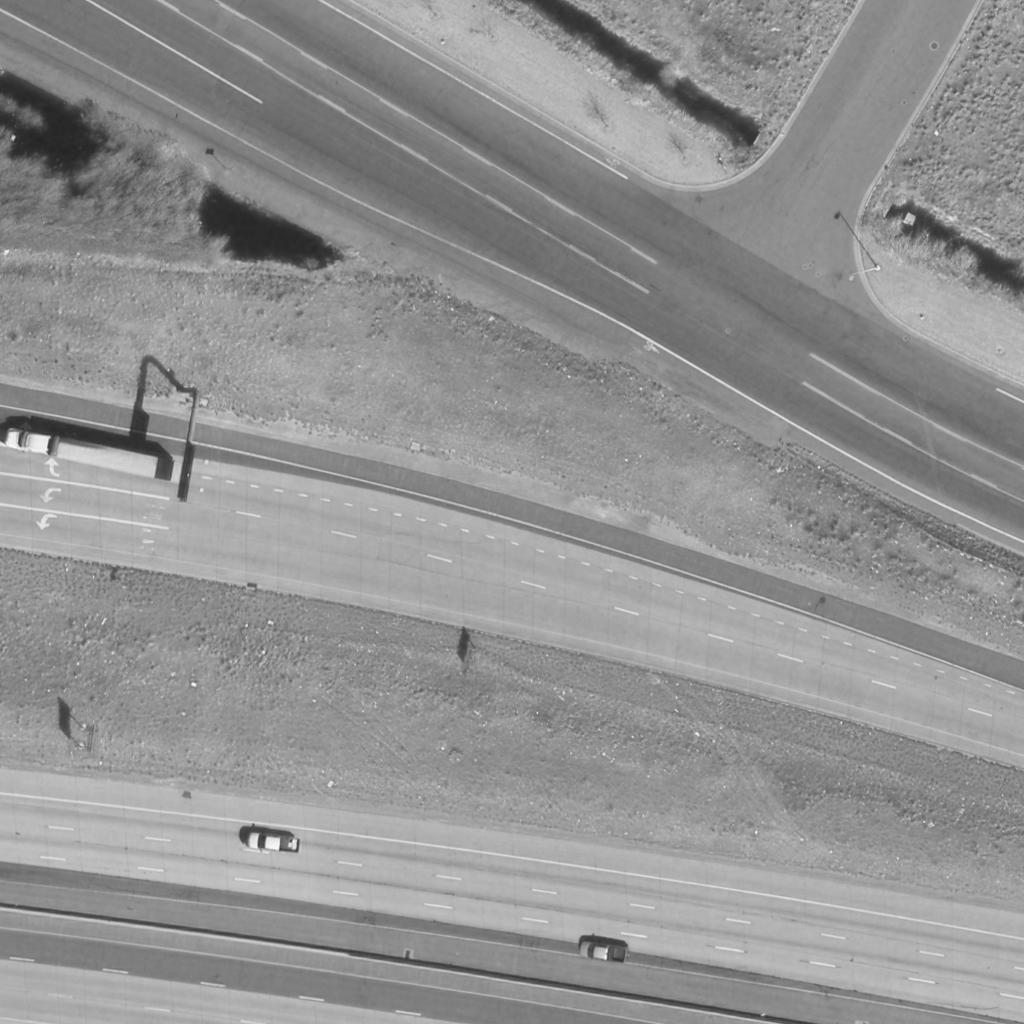vehicle: (4, 426, 160, 480), (576, 940, 630, 964), (245, 833, 301, 853)
